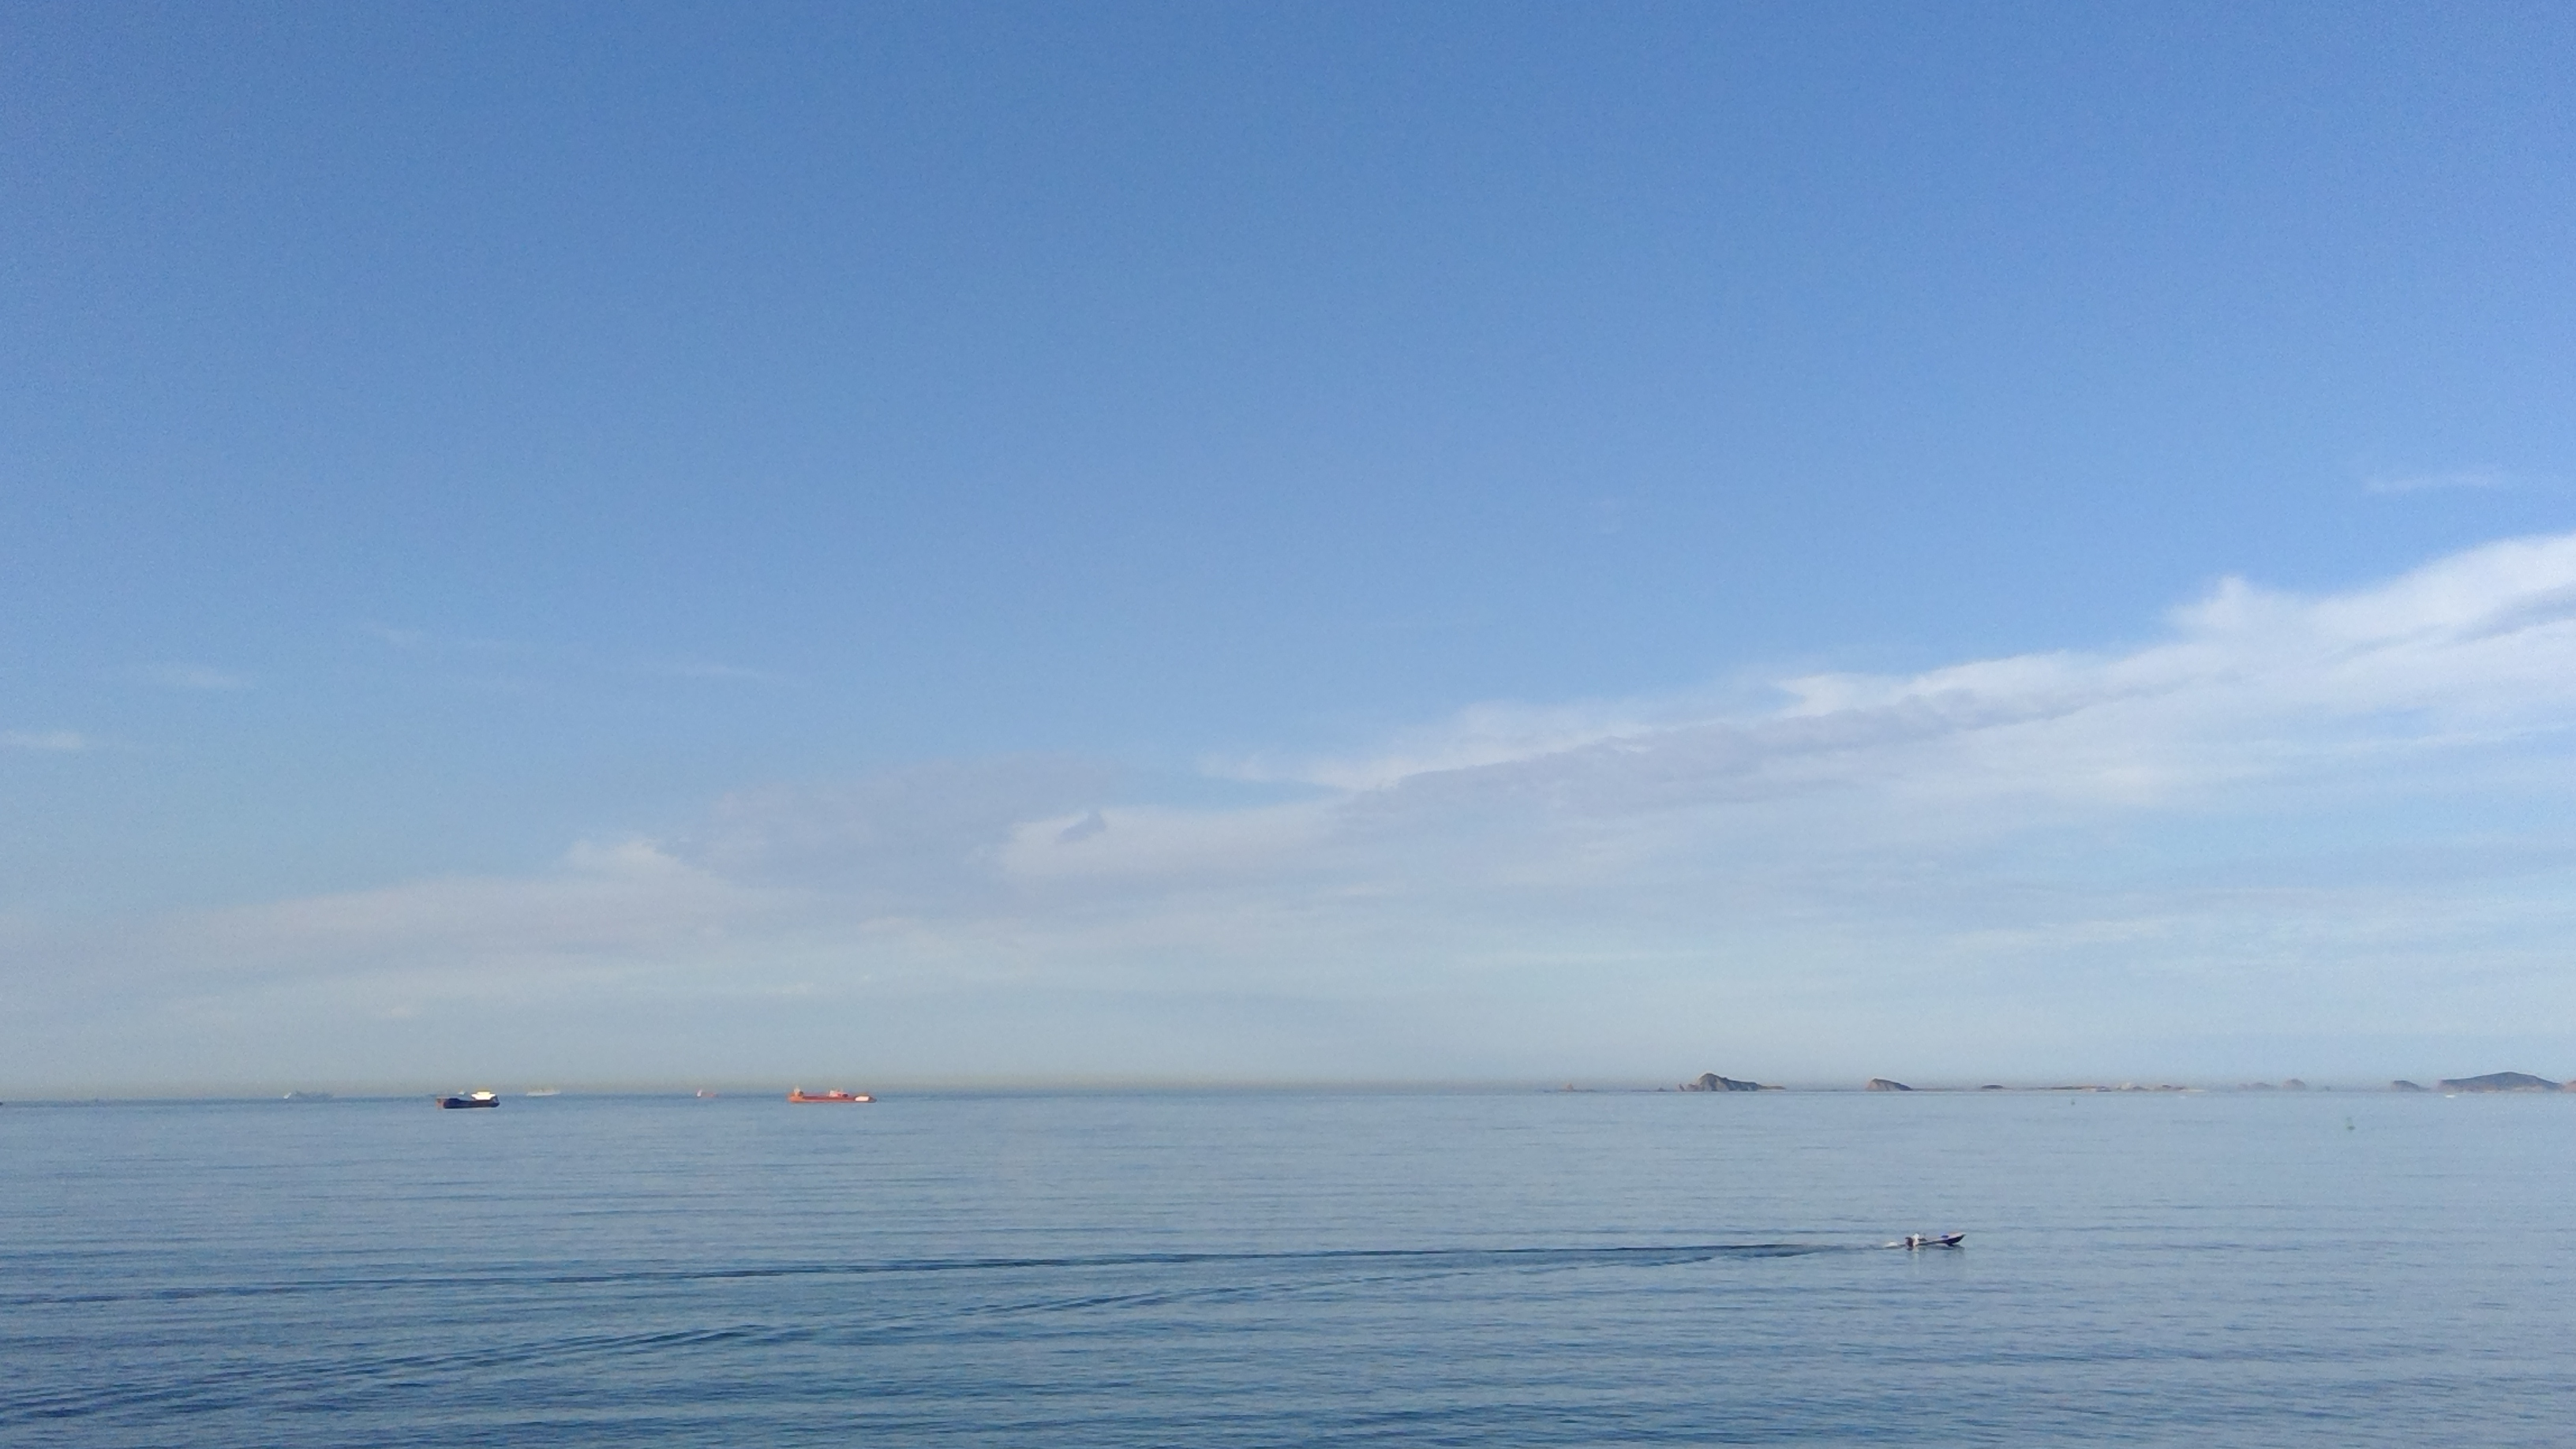boat: (1898, 1224, 1969, 1258), (439, 1081, 502, 1118)
ship: (789, 1069, 883, 1127)
